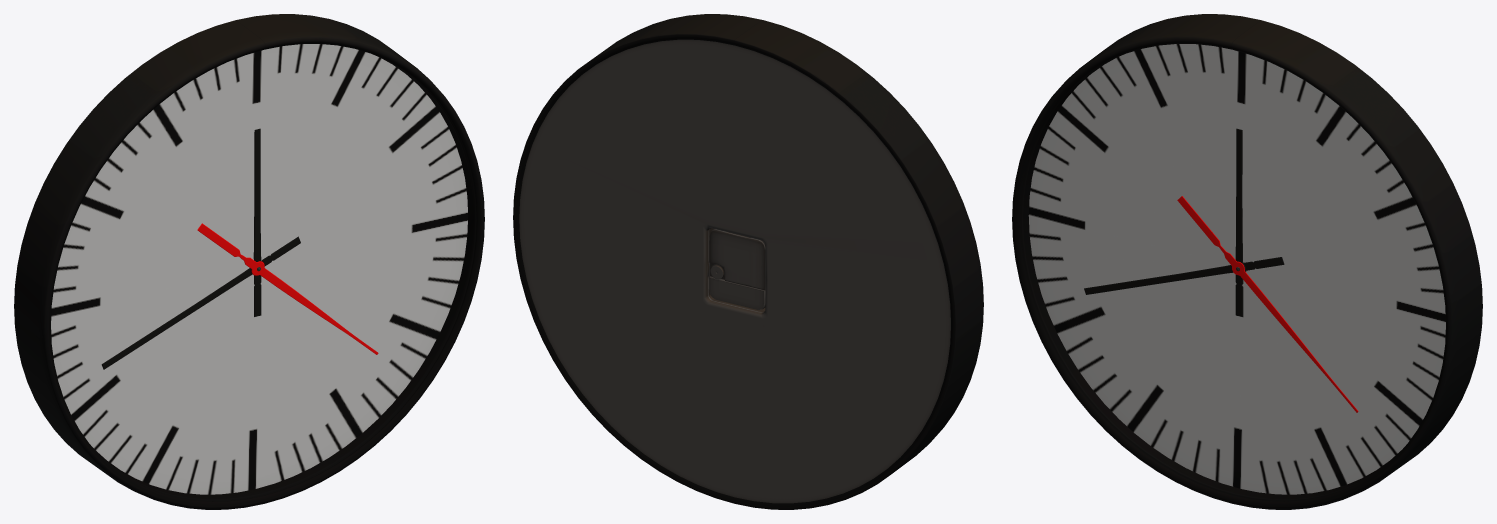
File: clock4.glb
3 views of the same model, side by side, from view 1: azimuth 30°, elevation 25°; view 2: azimuth 150°, elevation 25°; view 3: azimuth 330°, elevation 25° (orthographic).
Parts seen in each view (by area): view 1: node_id104; view 2: node_id104; view 3: node_id104.
Part boxes in pixels (left/top/right/bottom): node_id104: left=14, top=14, right=484, bottom=509; node_id104: left=513, top=14, right=983, bottom=509; node_id104: left=1012, top=14, right=1482, bottom=509.
Size of the model in its own units: 0.512 by 0.512 by 0.0602.
Materials: 1 (1 with a texture image).
